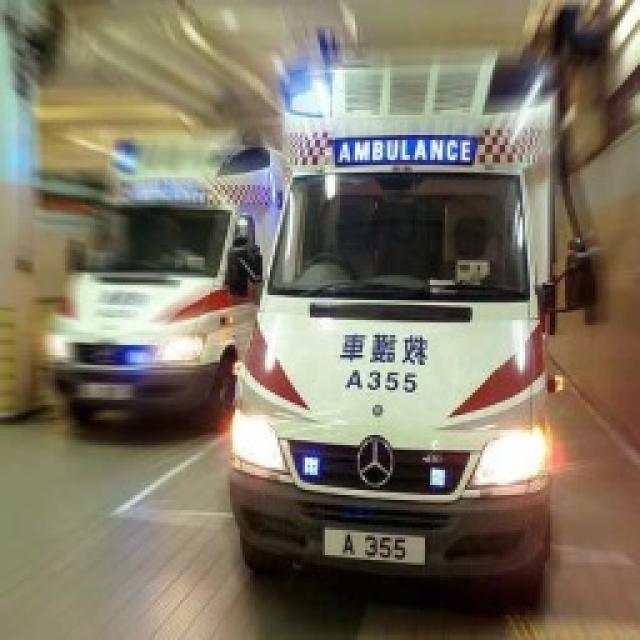emergency-vehicle: (248, 59, 556, 578), (49, 177, 227, 422)
